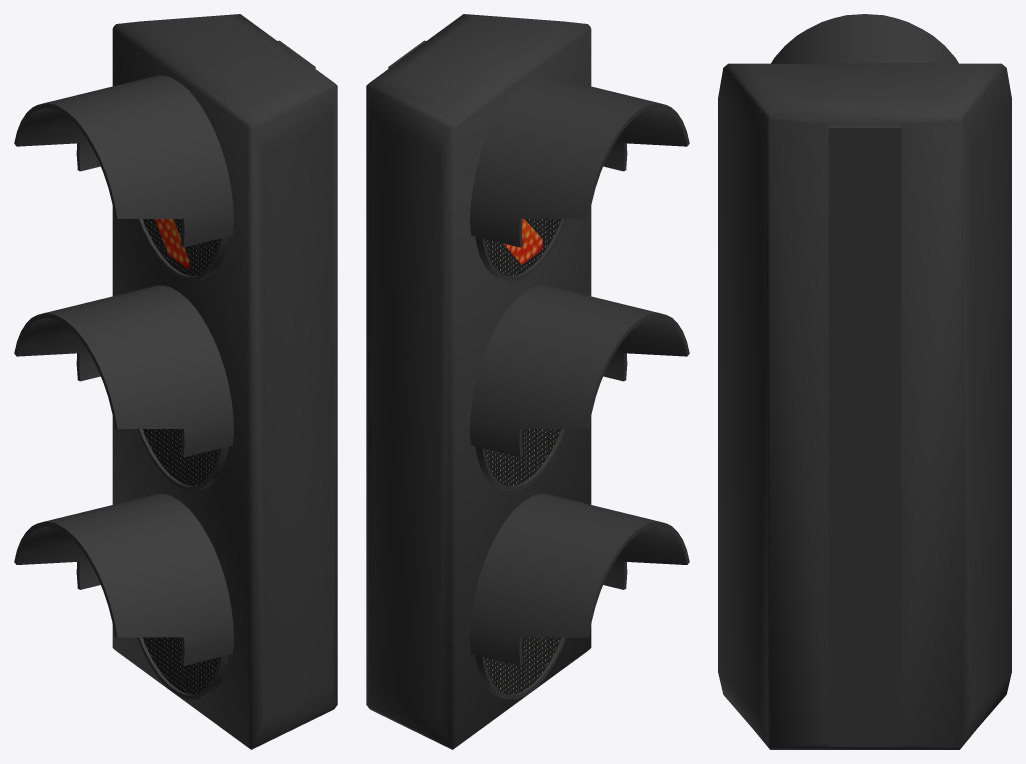
The model's file is 竖排左转灯_RedLight.fbx.
3 renders of one model, left to right at view 1: azimuth 30°, elevation 25°; view 2: azimuth 150°, elevation 25°; view 3: azimuth 270°, elevation 25°, orthographic.
Visible parts, largest first — view 1: 竖排左转灯_RedLight; view 2: 竖排左转灯_RedLight; view 3: 竖排左转灯_RedLight.
Part boxes in pixels (bbox=[...]): 竖排左转灯_RedLight: bbox=[14, 14, 337, 749]; 竖排左转灯_RedLight: bbox=[366, 14, 689, 749]; 竖排左转灯_RedLight: bbox=[718, 14, 1011, 749].
Bounding box in the file's own units: 0.6 × 1.58 × 0.65.
Materials: 3 (2 with a texture image).
